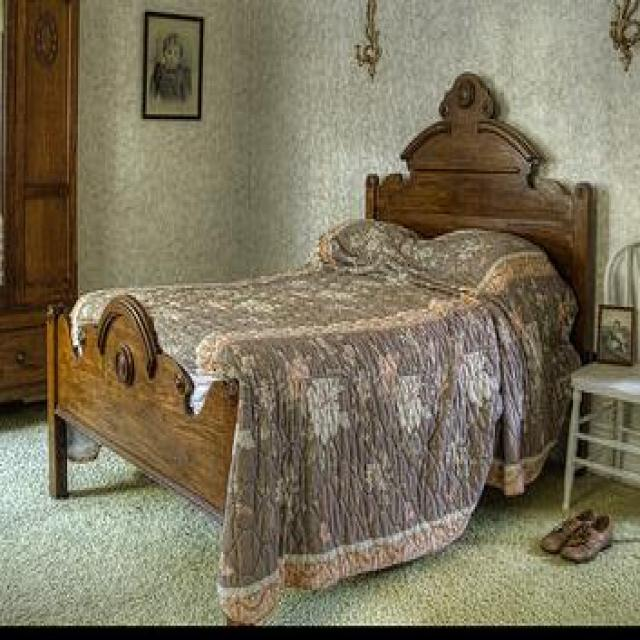bed: (44, 69, 596, 623)
